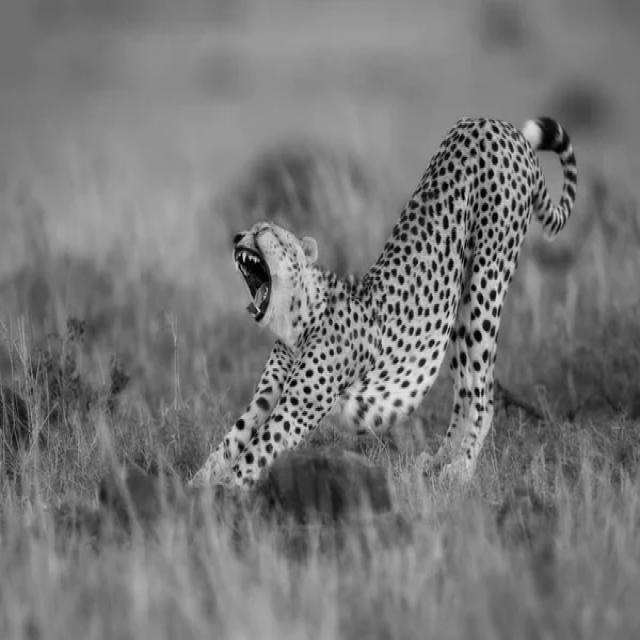Animal: (197, 119, 578, 488)
